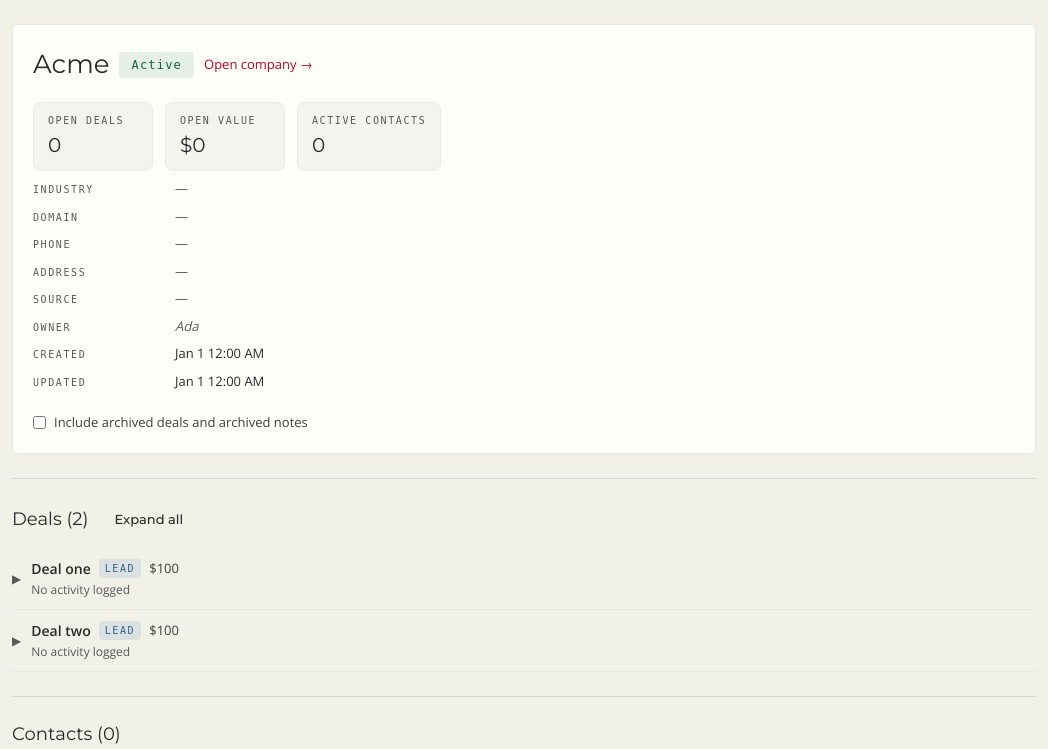
Test: CompanyRollupReport › expands a row without issuing any request
Step 1. Click the button "Expand all" → point(149, 519), box [100,502,197,536]
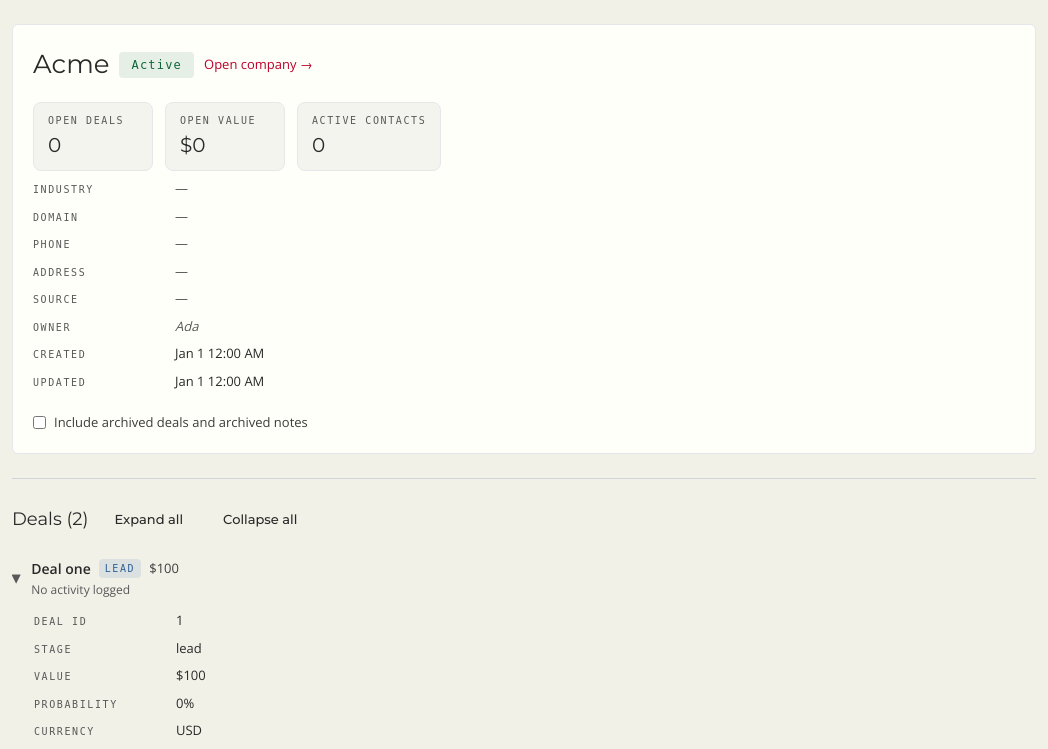
Result: the text "Deal ID" is shown at [34,616,87,627]
